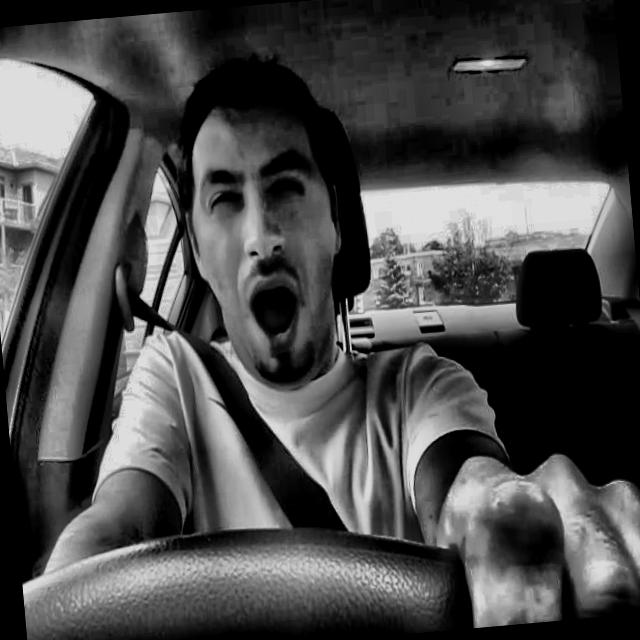closed_eyes: (195, 179, 249, 227), (259, 168, 313, 212)
open_mouth: (229, 271, 325, 361)
